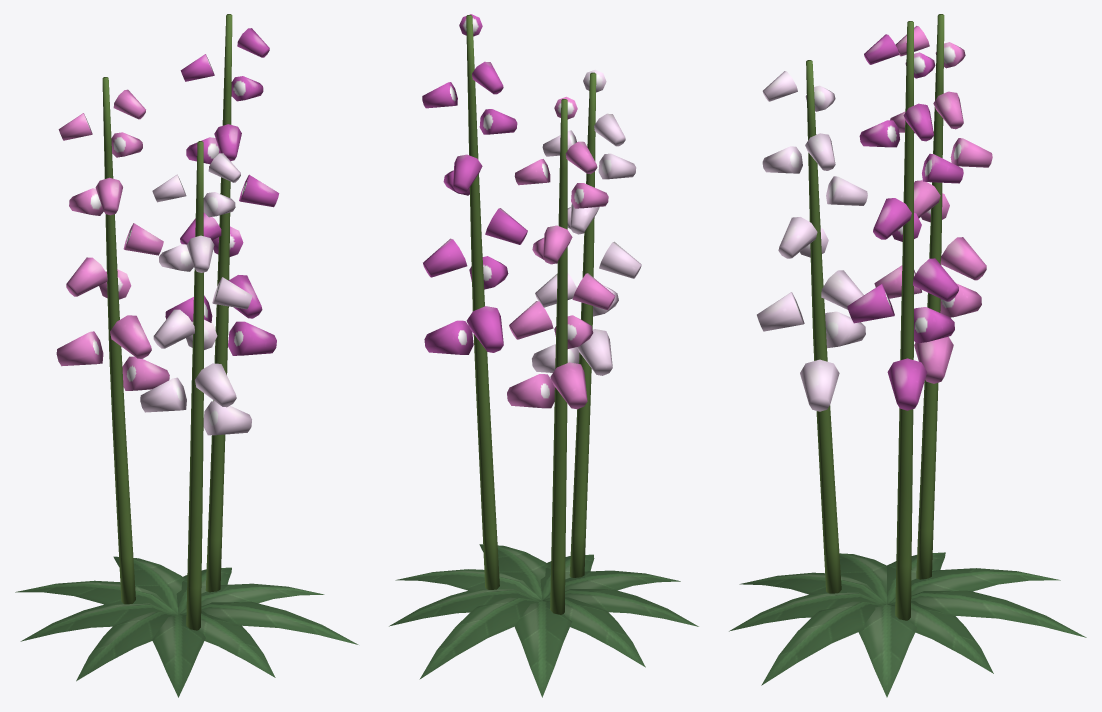
The model's file is foxglove.glb.
3 views of the same model, side by side, from view 1: azimuth 30°, elevation 25°; view 2: azimuth 150°, elevation 25°; view 3: azimuth 270°, elevation 25° (orthographic). The views are drawn at different scales.
Visible parts, largest first — view 1: Foxglove_leaf, FoxgloveBells; view 2: Foxglove_leaf, FoxgloveBells; view 3: Foxglove_leaf, FoxgloveBells.
Part boxes in pixels (x1,y1,x2,y2): Foxglove_leaf: (15, 14, 358, 697); FoxgloveBells: (56, 28, 279, 435); Foxglove_leaf: (389, 14, 698, 697); FoxgloveBells: (422, 14, 641, 409); Foxglove_leaf: (729, 14, 1086, 697); FoxgloveBells: (757, 26, 992, 411).
Size of the model in its own units: 0.5162 by 1.05 by 0.5412.
Materials: 1 (1 with a texture image).
